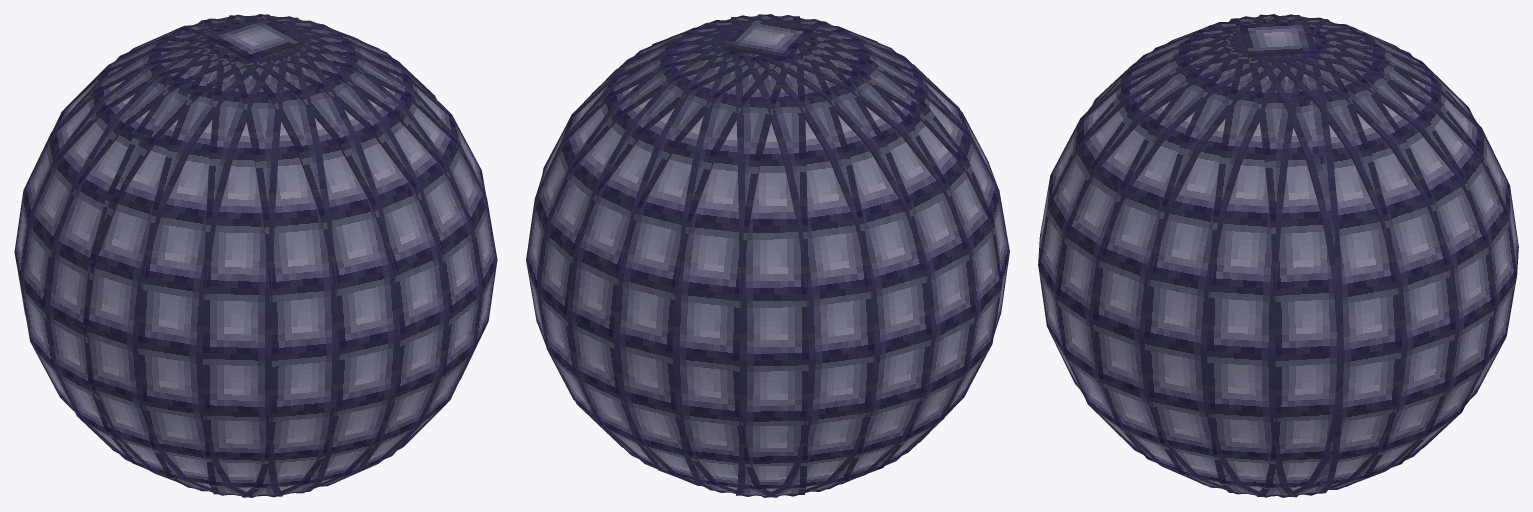
The model's file is trap-6.glb.
3 renders of one model, left to right at view 1: azimuth 30°, elevation 25°; view 2: azimuth 150°, elevation 25°; view 3: azimuth 270°, elevation 25°, orthographic.
Visible parts, largest first — view 1: 2$$(1)-Local; view 2: 2$$(1)-Local; view 3: 2$$(1)-Local.
Part boxes in pixels (left/top/right/bottom): 2$$(1)-Local: left=14, top=14, right=497, bottom=497; 2$$(1)-Local: left=526, top=14, right=1009, bottom=497; 2$$(1)-Local: left=1038, top=14, right=1518, bottom=497.
Size of the model in its own units: 1.01 by 1 by 1.
Materials: 1 (1 with a texture image).
